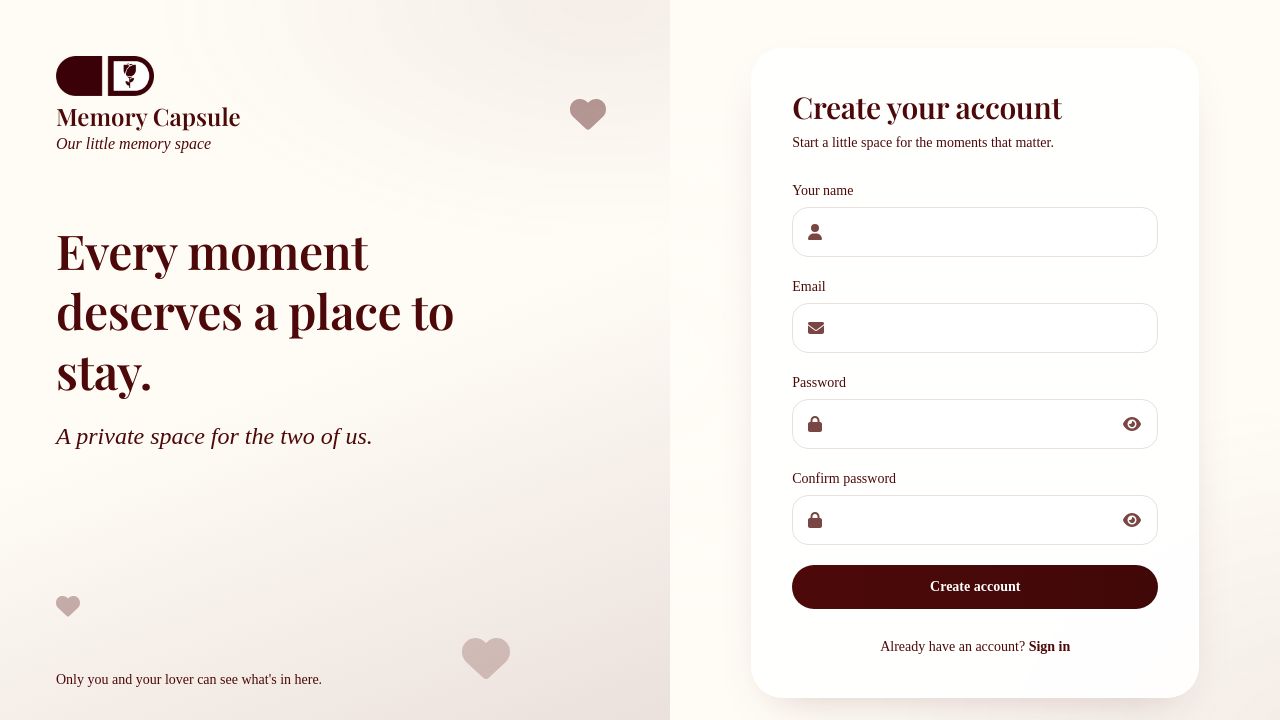
Scenario: sign up › creates the account with the display name and asks for verification
Type "Sam" into the field labelled "Your name" at (975, 232), box [792,207,1158,257]
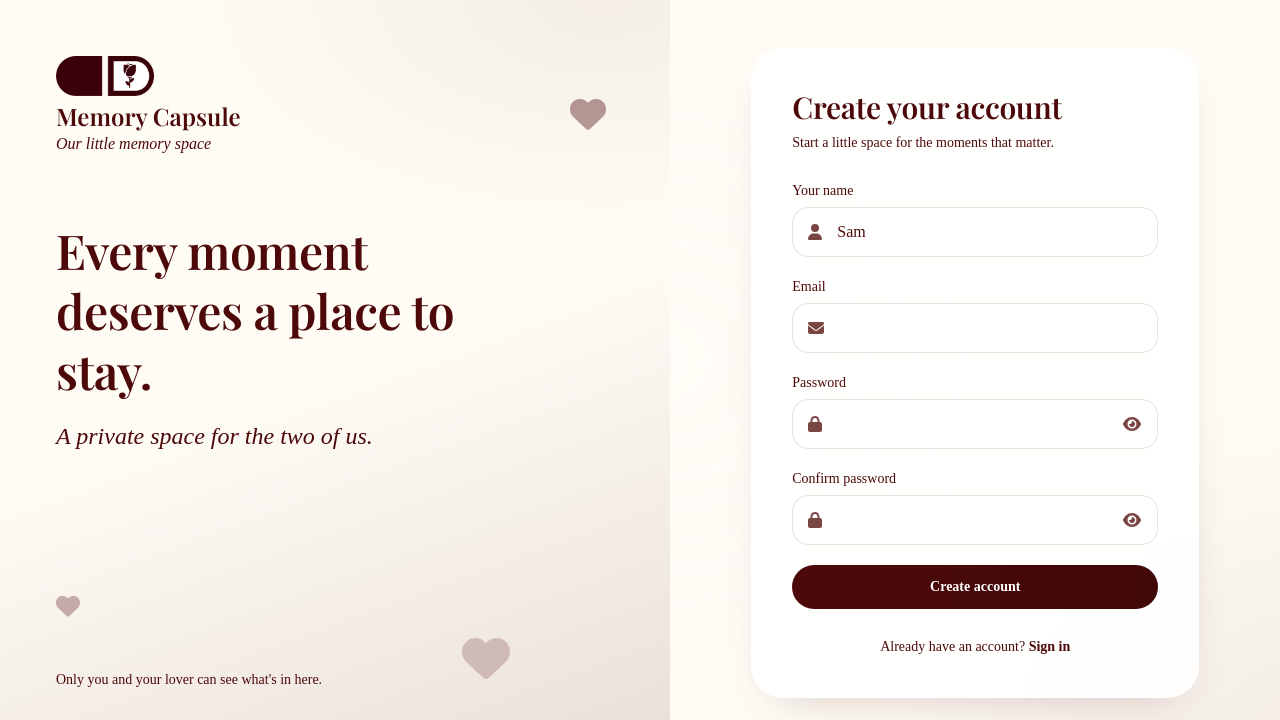
Type "rectojustine84@gmail.com" into the field labelled "Email" at (975, 328), box [792,303,1158,353]
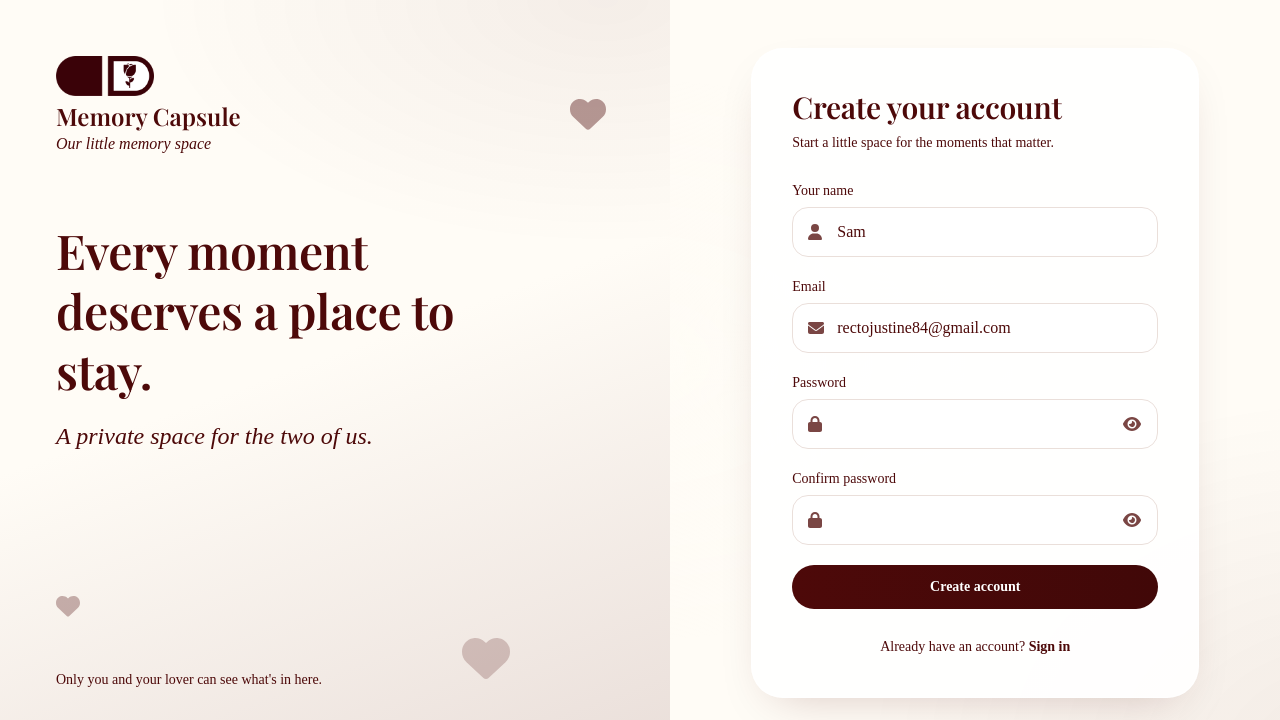
Type "secret123" into the password field labelled "Password" at (975, 424), box [792,399,1158,449]
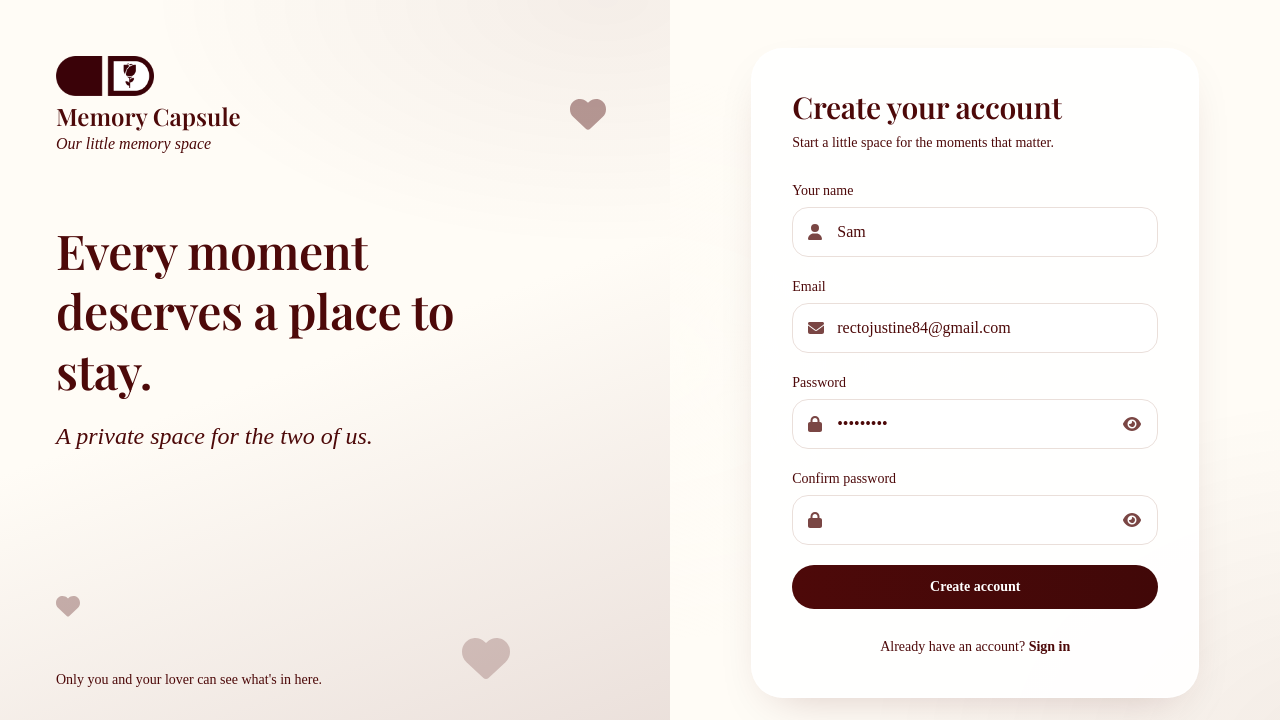
Type "secret123" into the password field labelled "Confirm password" at (975, 520), box [792,495,1158,545]
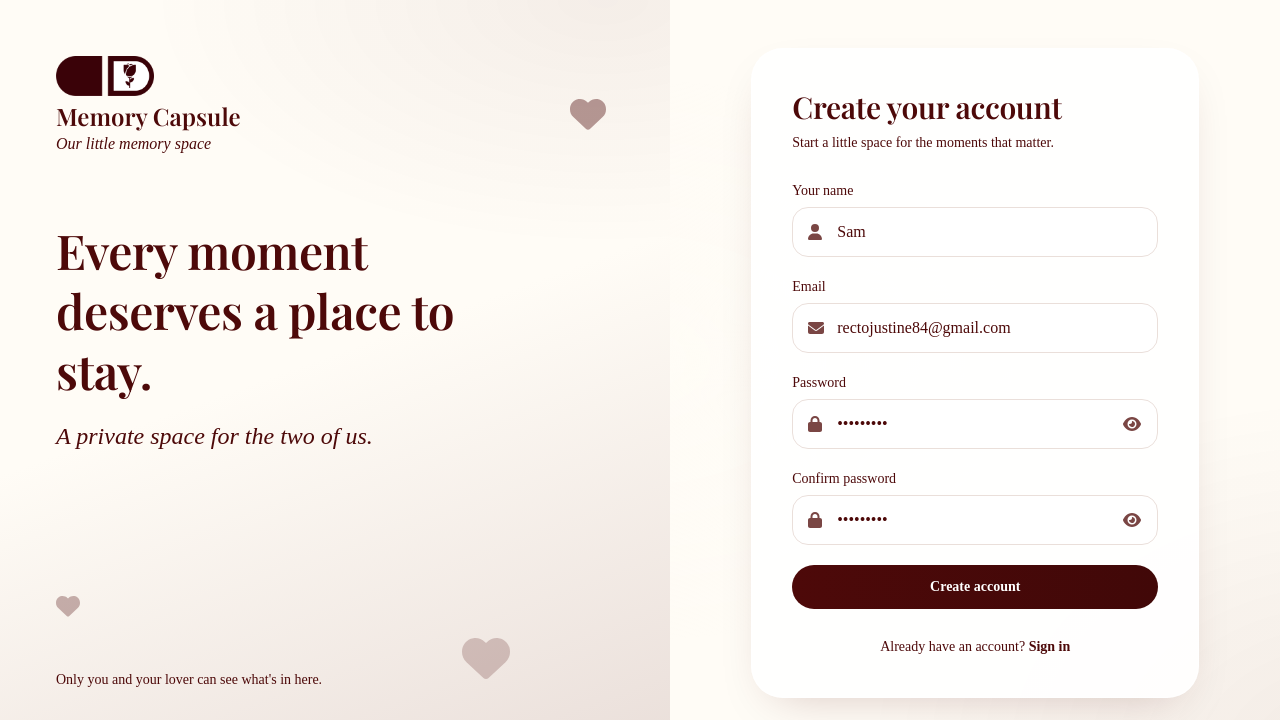
Click the button "Create account" at (975, 587), box [792,565,1158,609]
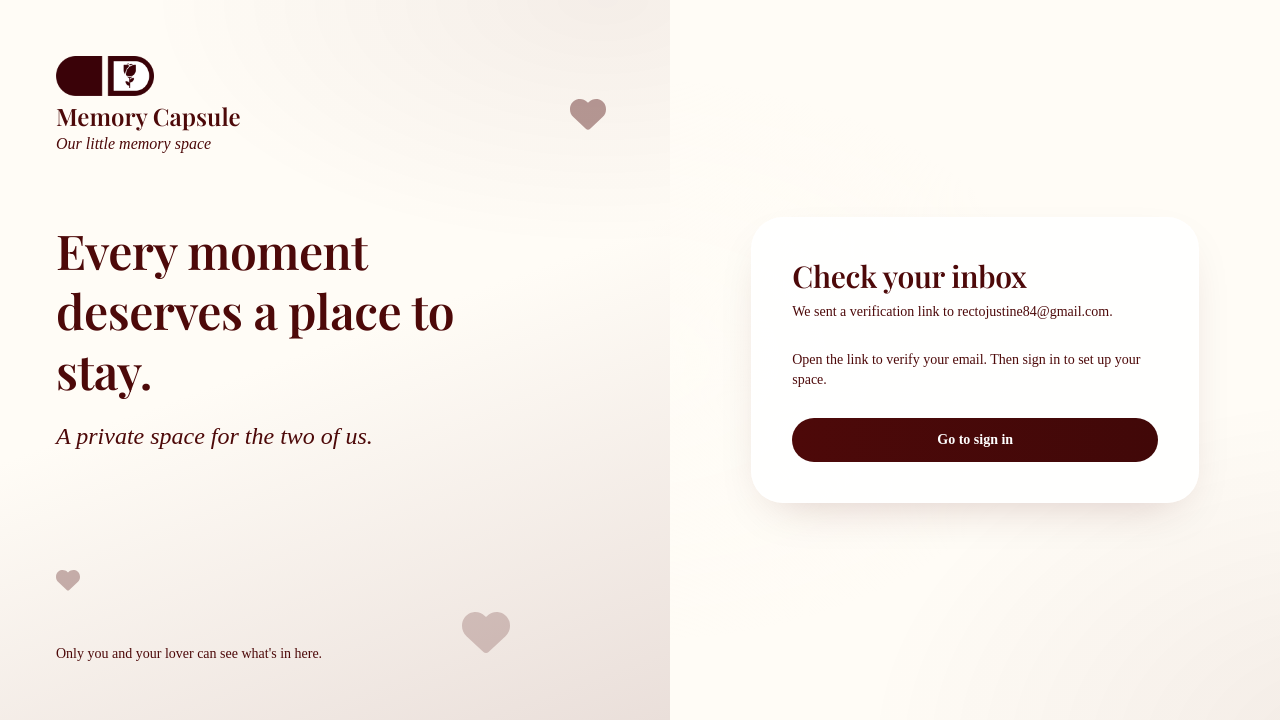
Expected: the heading "Check your inbox" is shown, [792,256,1027,296]
